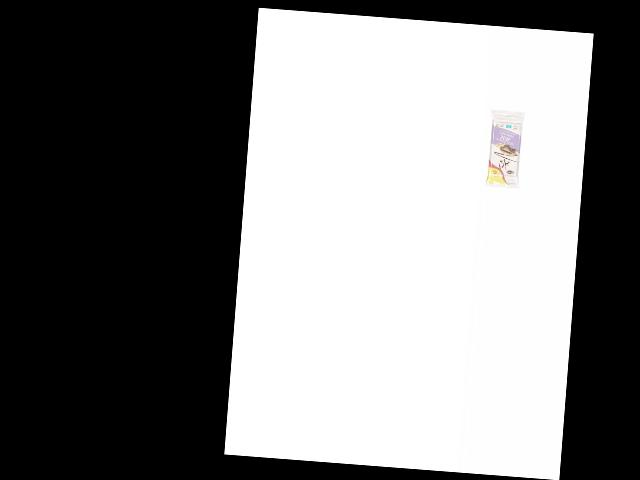chocolate: (483, 108, 528, 191)
